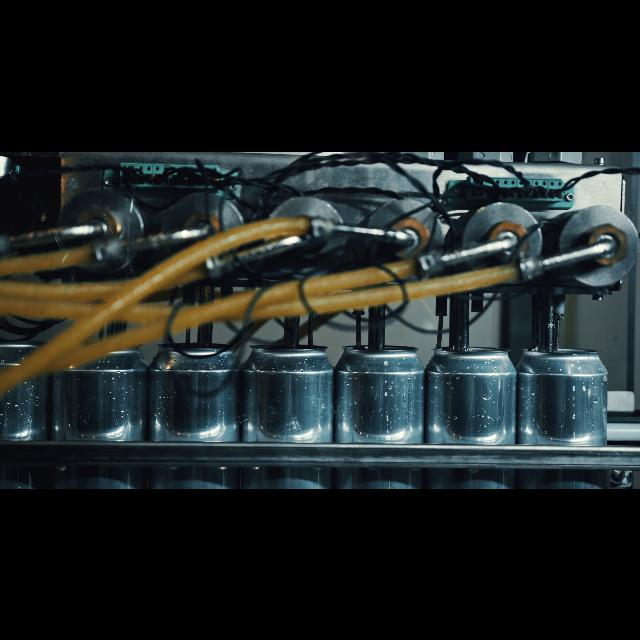empty: (242, 330, 334, 488), (522, 332, 610, 488), (152, 326, 235, 488), (60, 326, 140, 488), (433, 329, 513, 489), (342, 338, 423, 488), (1, 336, 52, 488)
